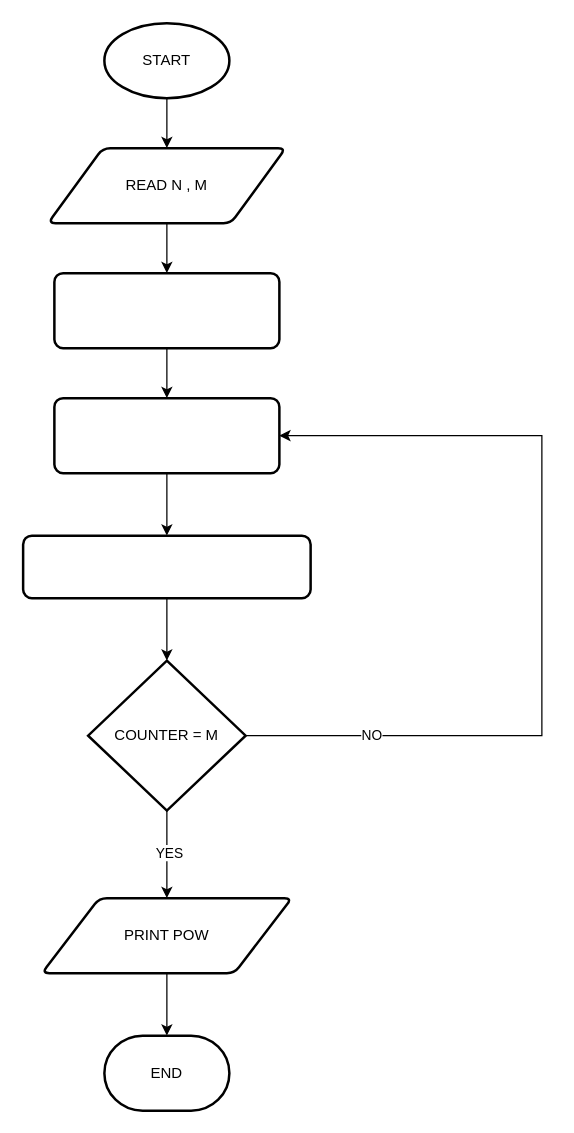
The diagram is 574 pixels wide and 1133 high, and some of its shapes have lost their labels. Each missing label, with the centre of its shape:
"COUNTER = 0 POW = N" belongs at (166,310).
"COUNTER = COUNTER + 1" belongs at (166,435).
"POW = POW * COUNTER" belongs at (166,566).
